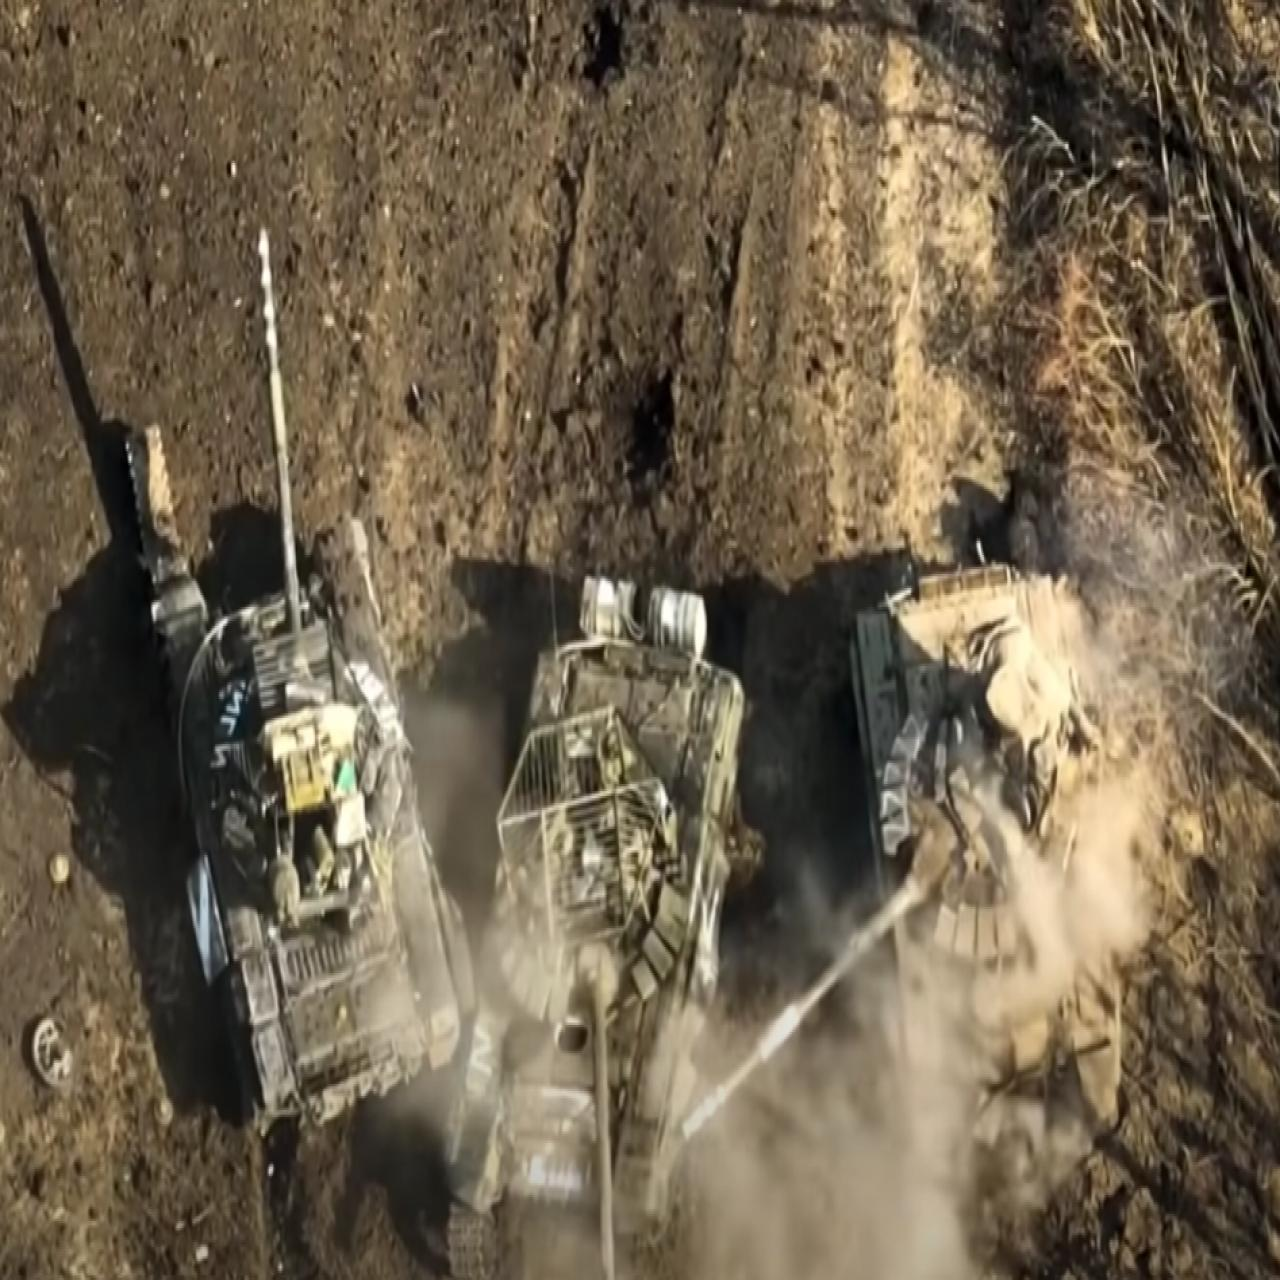MIL_Veh: (143, 227, 456, 1117), (685, 554, 1111, 1165), (447, 579, 740, 1269)
